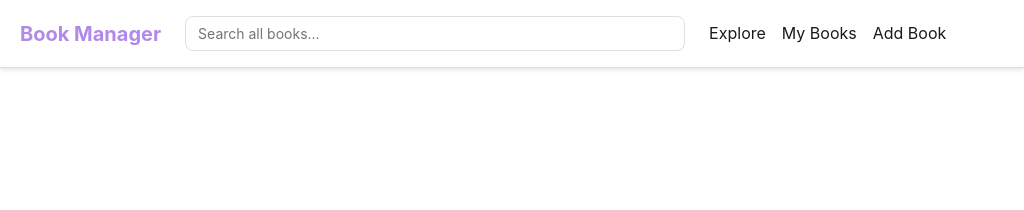
Test: Navigation › should display search results
Type "test" into the field with placeholder "Search all books...".
click(435, 34); type("test")  # box x1=185 y1=16 x2=685 y2=51
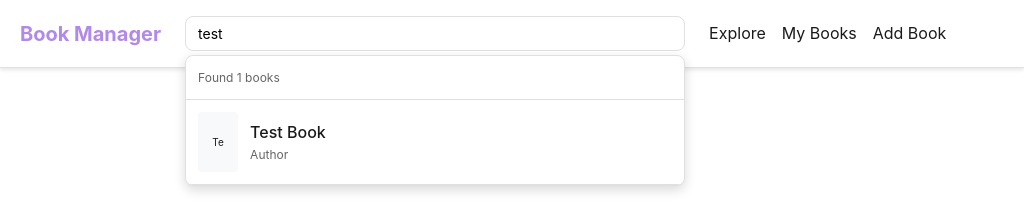
expect the text "Test Book" is shown: met, box x1=250 y1=122 x2=326 y2=142
